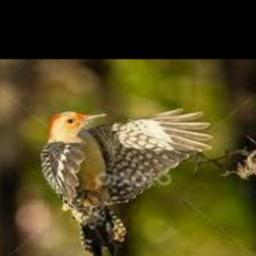Woodpecker: (39, 108, 213, 256)
